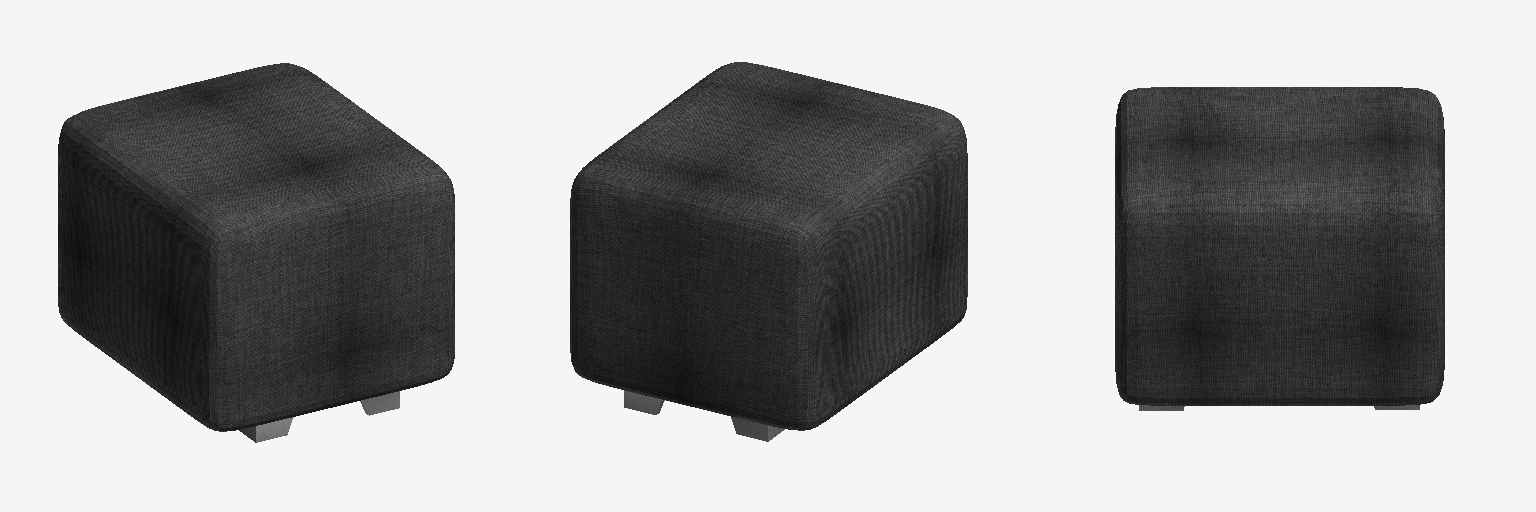
3 views of the same model, side by side, from view 1: azimuth 30°, elevation 25°; view 2: azimuth 150°, elevation 25°; view 3: azimuth 270°, elevation 25° (orthographic).
Parts seen in each view (by area): view 1: Cubo.009; view 2: Cubo.009; view 3: Cubo.009.
Boxes of the visible parts, <box> form: Cubo.009: <box>58,63,454,442</box>; Cubo.009: <box>570,62,967,441</box>; Cubo.009: <box>1115,87,1444,410</box>.
Size of the model in its own units: 0.5 by 0.4476 by 0.5653.
2 materials, 2 textured.